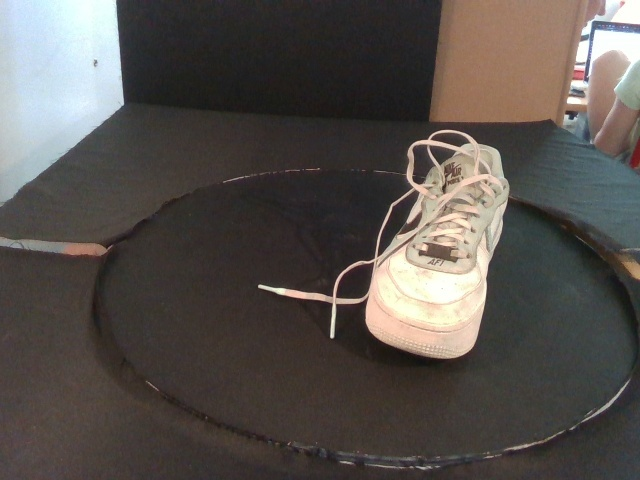shoe: (364, 142, 511, 360)
